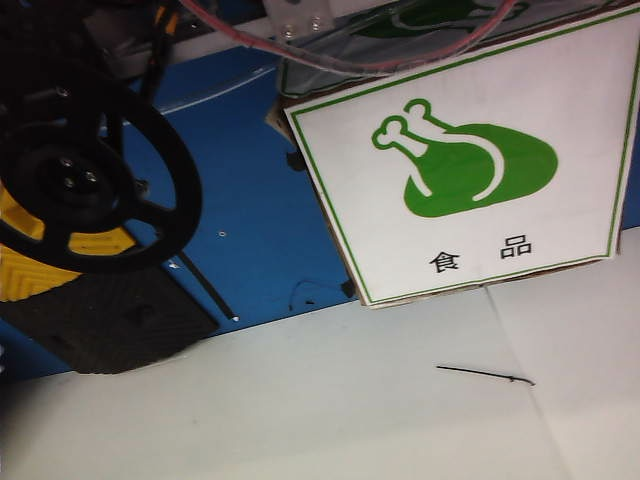Cube_food: (362, 87, 571, 277)
